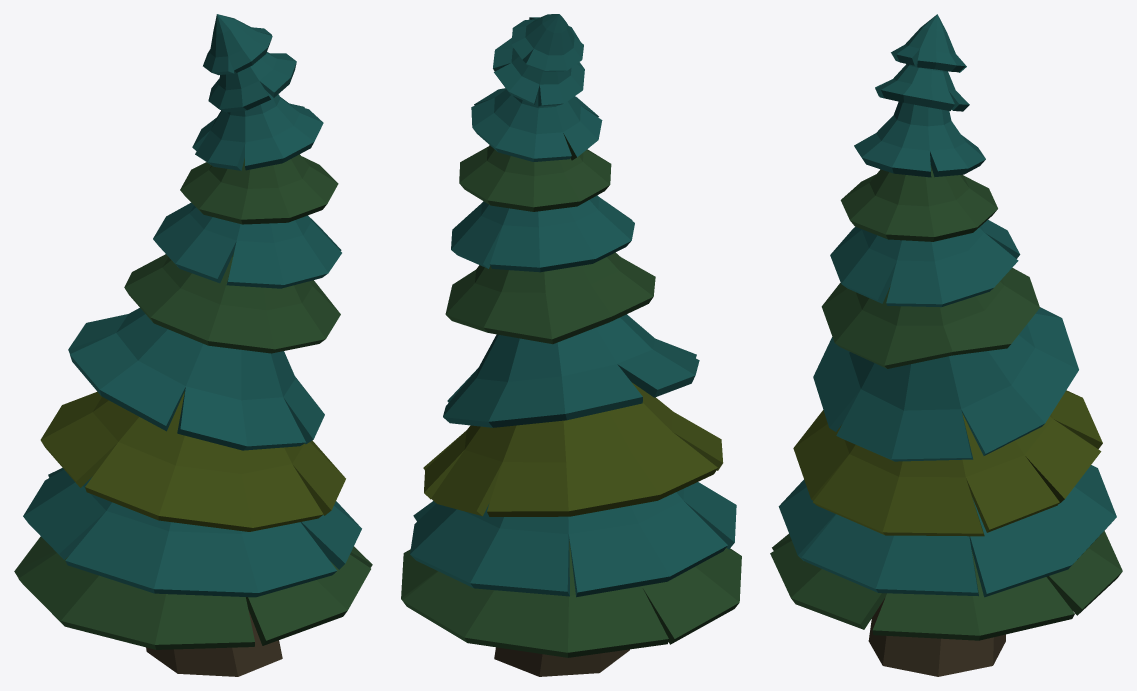
Rendered from Tree_01.fbx.
The picture shows the model from 3 angles, left to right: view 1: azimuth 30°, elevation 25°; view 2: azimuth 150°, elevation 25°; view 3: azimuth 270°, elevation 25°; orthographic projection.
Visible parts, largest first — view 1: Circle.042; view 2: Circle.042; view 3: Circle.042.
Boxes of the visible parts, x1,y1,x2,y2 form: Circle.042: [14, 14, 372, 676]; Circle.042: [401, 14, 741, 676]; Circle.042: [770, 14, 1122, 676].
Size of the model in its own units: 176 by 352 by 178.
